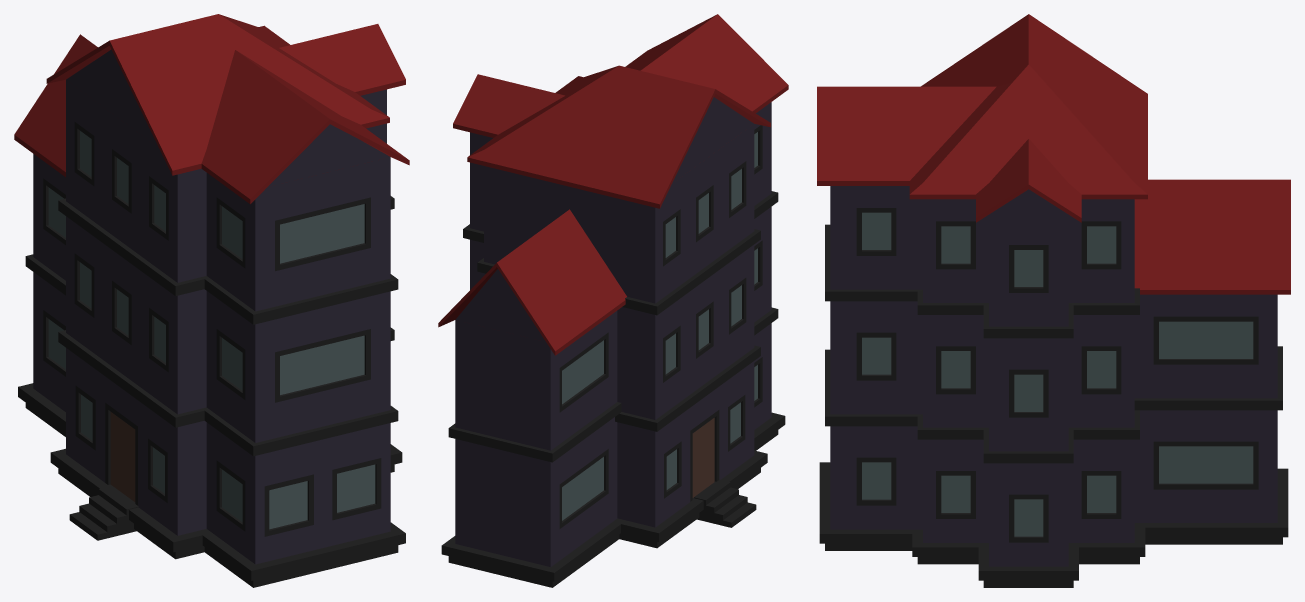
Rendered from house_03.fbx.
3 renders of one model, left to right at view 1: azimuth 30°, elevation 25°; view 2: azimuth 150°, elevation 25°; view 3: azimuth 270°, elevation 25°, orthographic. The views are drawn at different scales.
Visible parts, largest first — view 1: building_005; view 2: building_005; view 3: building_005.
Boxes of the visible parts, x1,y1,x2,y2 form: building_005: (14, 14, 409, 587); building_005: (438, 14, 788, 587); building_005: (817, 14, 1290, 587).
Size of the model in its own units: 615 by 950 by 895.
